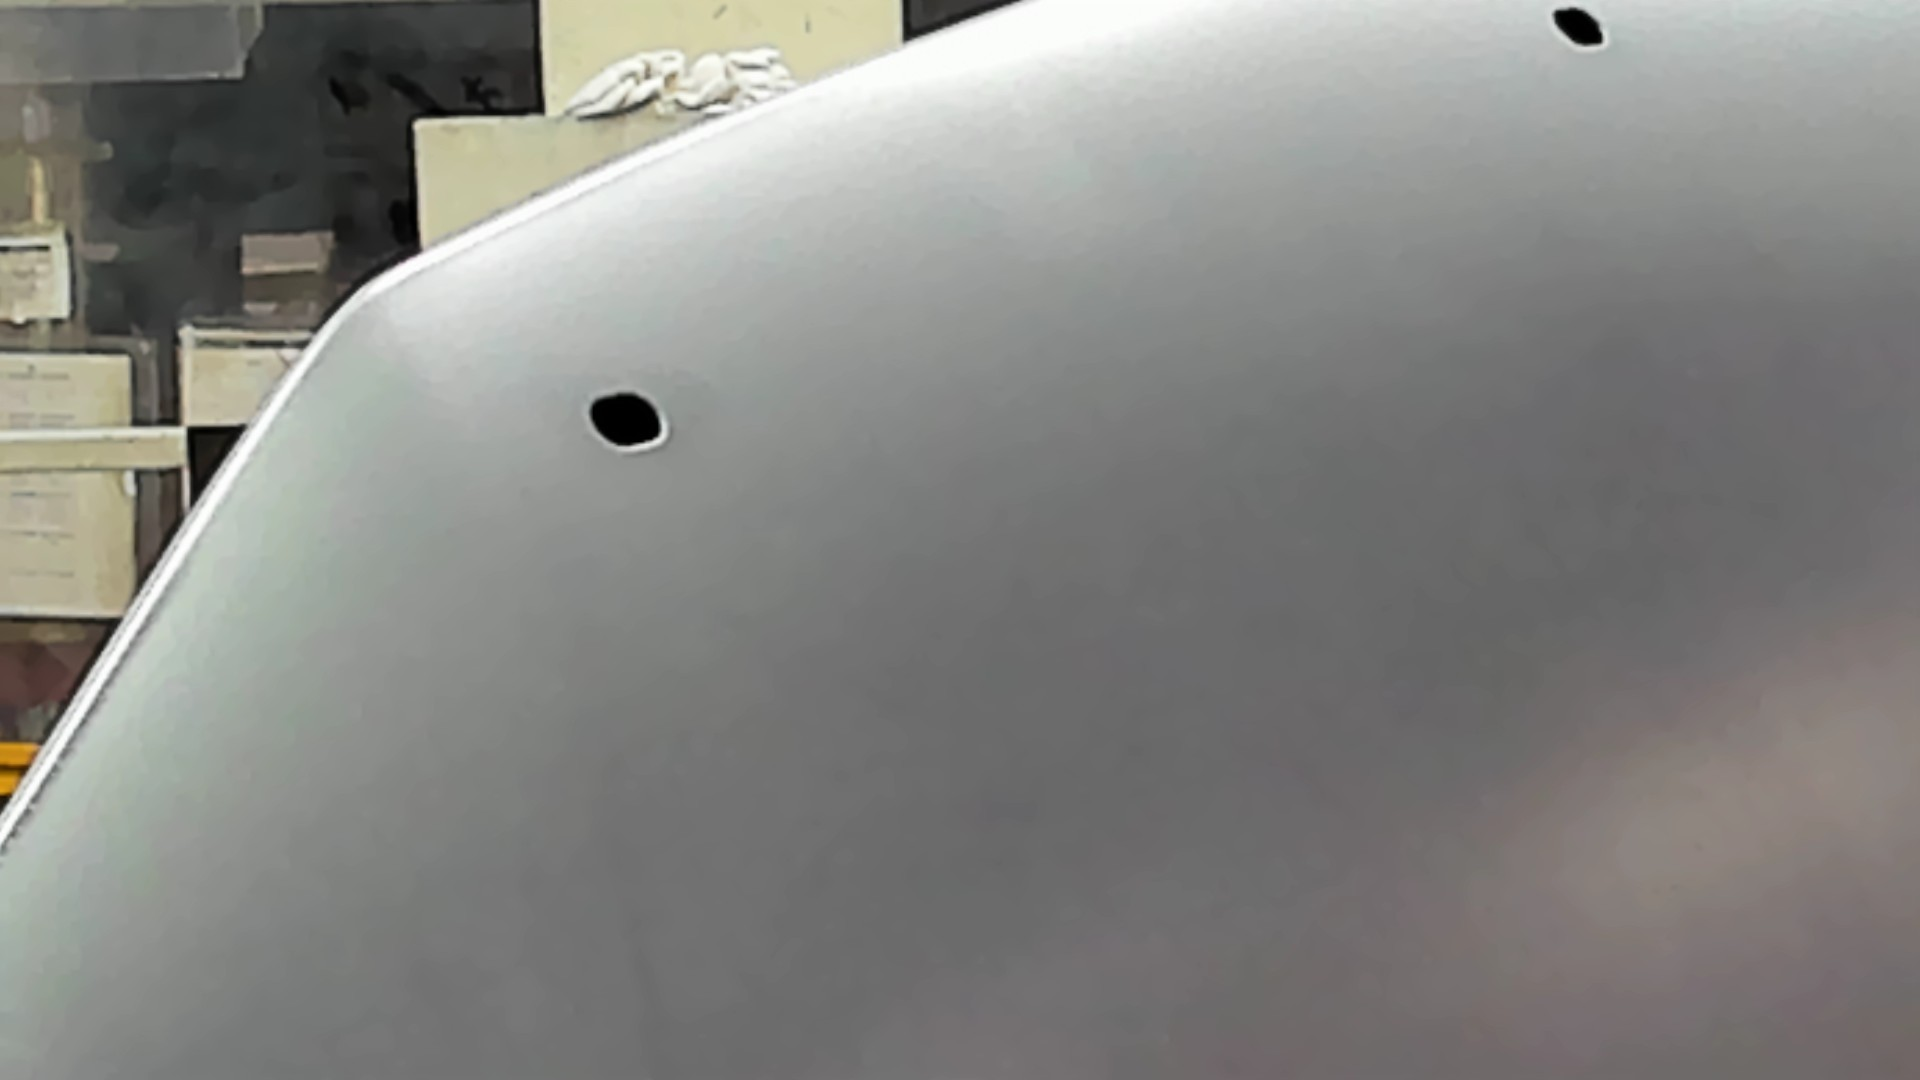amorfo: (575, 381, 680, 458), (1545, 11, 1614, 55)
capo: (793, 127, 1920, 1080)
